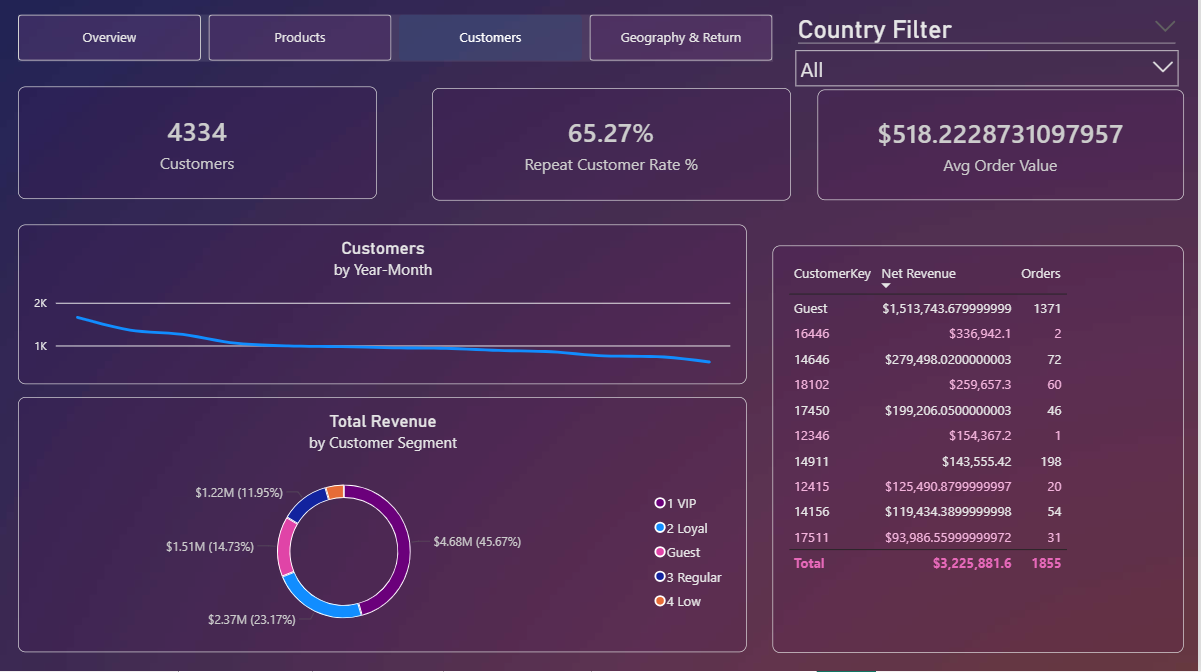

The page's visual inventory and layout, read from the dashboard file:
{"tool":"powerbi","page":{"name":"Customers","canvas":[1920,1080],"ordinal":2},"visuals":[{"type":"cardVisual","fields":{"Data":["Data.Customers"]},"box":[58.9,185,560.6,162.6],"z":0},{"type":"cardVisual","fields":{"Data":["Data.Repeat Customer Rate %"]},"box":[672.7,185,577.4,162.6],"z":1},{"type":"cardVisual","fields":{"Data":["Data.Avg Order Value"]},"box":[1309,187.8,555,159.8],"z":2},{"type":"donutChart","fields":{"Category":["Dim_Customer.Customer Segment"],"Y":["Data.Total Revenue"]},"box":[630.7,384,678.3,605.4],"z":3},{"type":"lineChart","fields":{"Category":["Dim_Date.Year-Month"],"Y":["Data.Customers"]},"box":[58.9,384,524.1,605.4],"z":4},{"type":"tableEx","fields":{"Values":["Dim_Customer.CustomerKey","Data.Net Revenue","Data.Orders"]},"box":[1353.8,384,510.1,605.4],"z":5},{"type":"slicer","fields":{"Values":["Dim_Country.Country"]},"box":[1311.8,53.3,569,120.5],"z":7},{"type":"pageNavigator","box":[58.9,72.9,1182.8,84.1],"z":8}]}

Visuals, with their boxes in screenshot pixels (x1, y1, x2, y2), scaled from the page's 1920x1080 canvas onto the 1201x672 screenshot:
cardVisual - Data.Customers: 37:115:388:216
cardVisual - Data.Repeat Customer Rate %: 421:115:782:216
cardVisual - Data.Avg Order Value: 819:117:1166:216
donutChart - Dim_Customer.Customer Segment x Data.Total Revenue: 395:239:819:616
lineChart - Dim_Date.Year-Month x Data.Customers: 37:239:365:616
tableEx - Dim_Customer.CustomerKey x Data.Net Revenue: 847:239:1166:616
slicer - Dim_Country.Country: 821:33:1176:108
pageNavigator: 37:45:777:98
